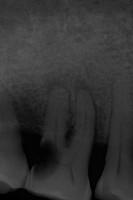Dental Caries: (42, 70, 70, 96), (73, 77, 96, 104), (64, 110, 75, 147)
